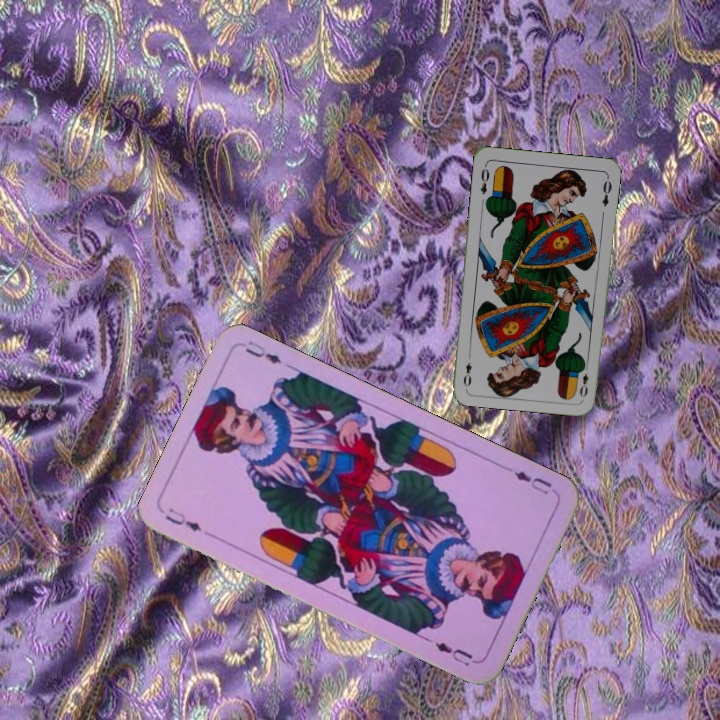EO: (576, 360, 591, 400), (476, 161, 492, 197)
EU: (161, 503, 205, 535), (509, 467, 555, 497)
